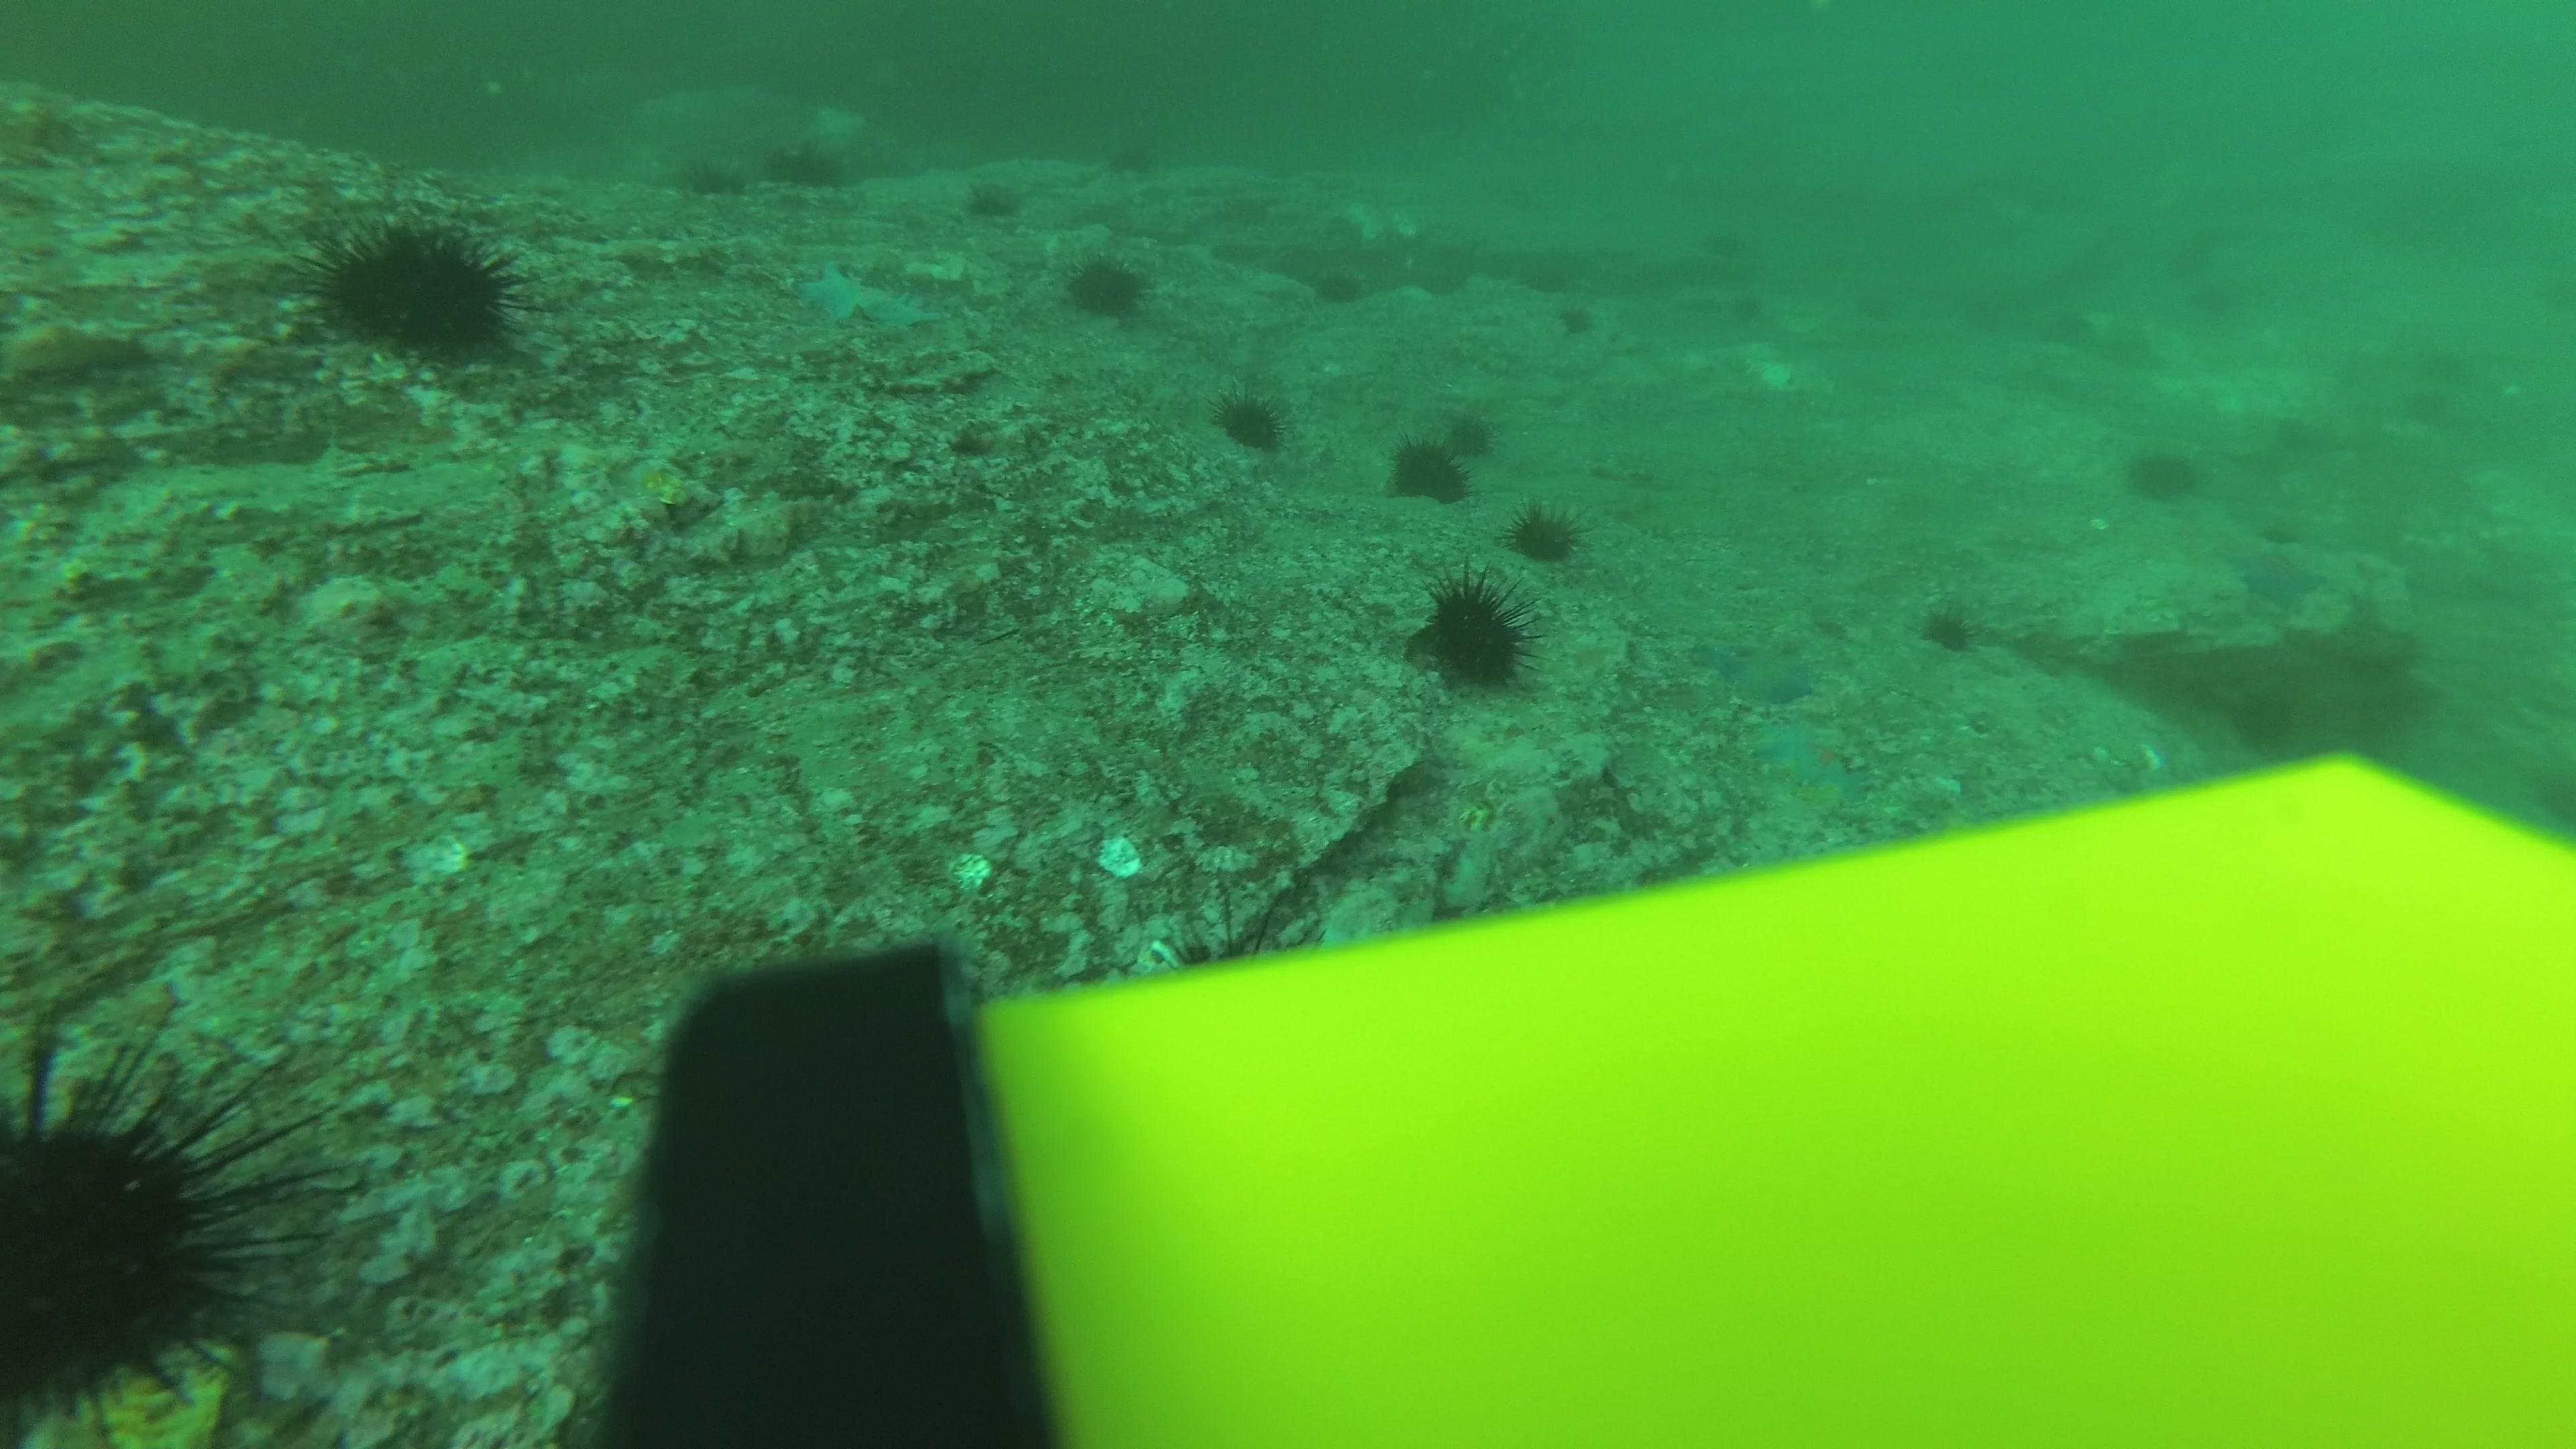echinus: (2, 1035, 336, 1433), (308, 211, 525, 364), (1412, 573, 1536, 694), (1063, 246, 1152, 322), (1387, 428, 1472, 506), (2121, 437, 2203, 506), (1214, 384, 1288, 453), (1507, 499, 1582, 563), (770, 134, 842, 189), (2185, 274, 2249, 334), (2042, 295, 2105, 356), (1847, 281, 1909, 341), (1691, 216, 1753, 276), (2411, 334, 2475, 393), (1950, 280, 2013, 338), (1720, 287, 1783, 345), (1518, 253, 1582, 311), (1918, 596, 1980, 655), (2403, 380, 2465, 439), (2157, 237, 2219, 295), (676, 152, 741, 200), (1099, 131, 1161, 180), (962, 175, 1023, 225), (1309, 260, 1369, 308), (1444, 405, 1497, 455), (1552, 299, 1598, 341)
starfish: (1746, 713, 1874, 810), (791, 257, 938, 334), (1693, 630, 1822, 709), (2231, 541, 2330, 610)
